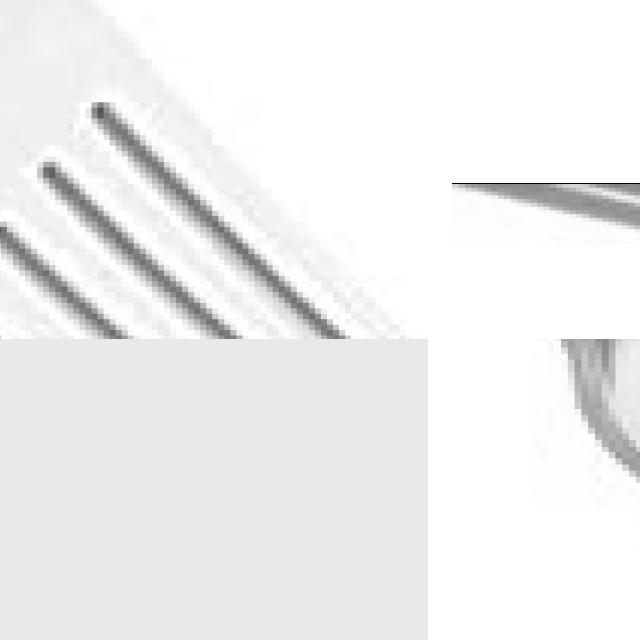forks: (0, 0, 428, 339), (538, 339, 640, 640), (579, 57, 640, 339)
